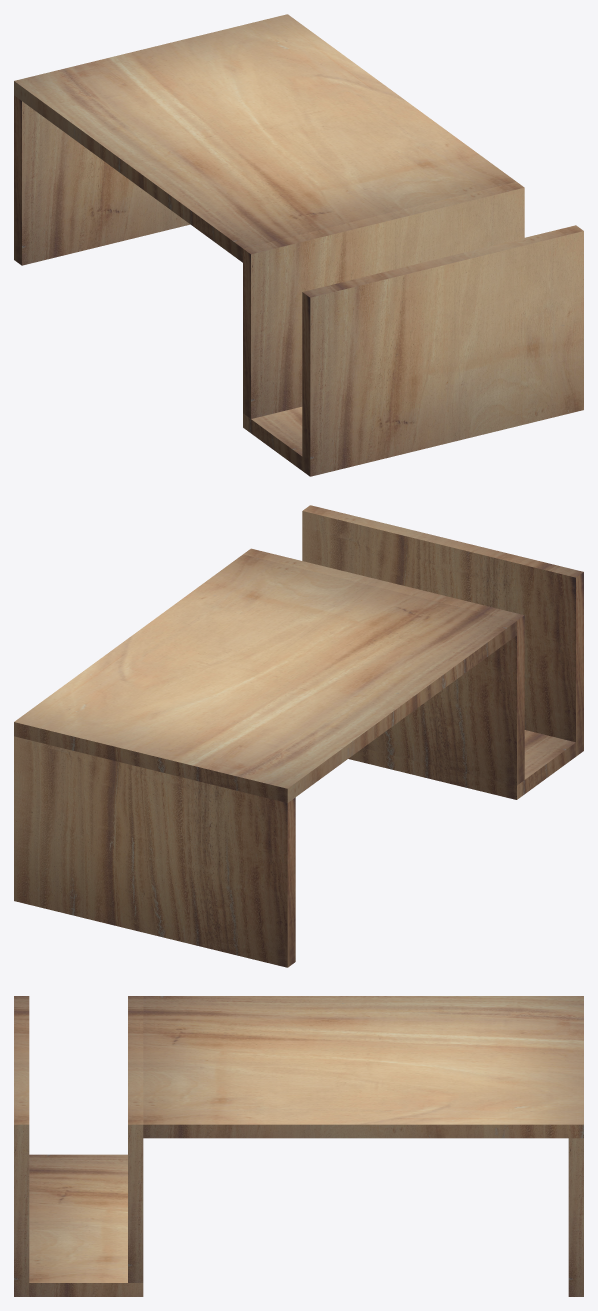
Rendered from table3d-4.glb.
The picture shows the model from 3 angles, top to bottom: view 1: azimuth 30°, elevation 25°; view 2: azimuth 150°, elevation 25°; view 3: azimuth 270°, elevation 25°; orthographic projection. The views are drawn at different scales.
Bounding box in the file's own units: 0.8 × 0.5 × 1.5.
Materials: 1 (1 with a texture image).
